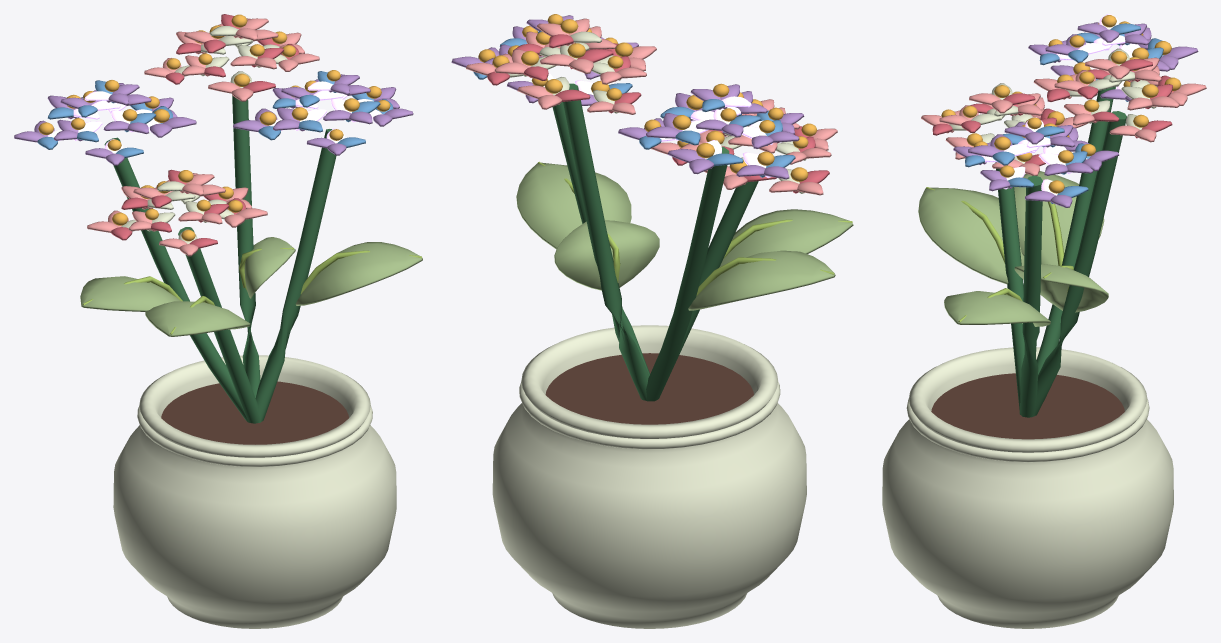
Rendered from atelier_hydrangea.glb.
3 renders of one model, left to right at view 1: azimuth 30°, elevation 25°; view 2: azimuth 150°, elevation 25°; view 3: azimuth 270°, elevation 25°, orthographic. The views are drawn at different scales.
Visible parts, largest first — view 1: Hortensias de jardín; view 2: Hortensias de jardín; view 3: Hortensias de jardín.
Part boxes in pixels (bbox=[...]): Hortensias de jardín: bbox=[14, 14, 422, 628]; Hortensias de jardín: bbox=[451, 14, 853, 628]; Hortensias de jardín: bbox=[882, 14, 1206, 628].
Bounding box in the file's own units: 0.6284 × 0.9398 × 0.5001.
